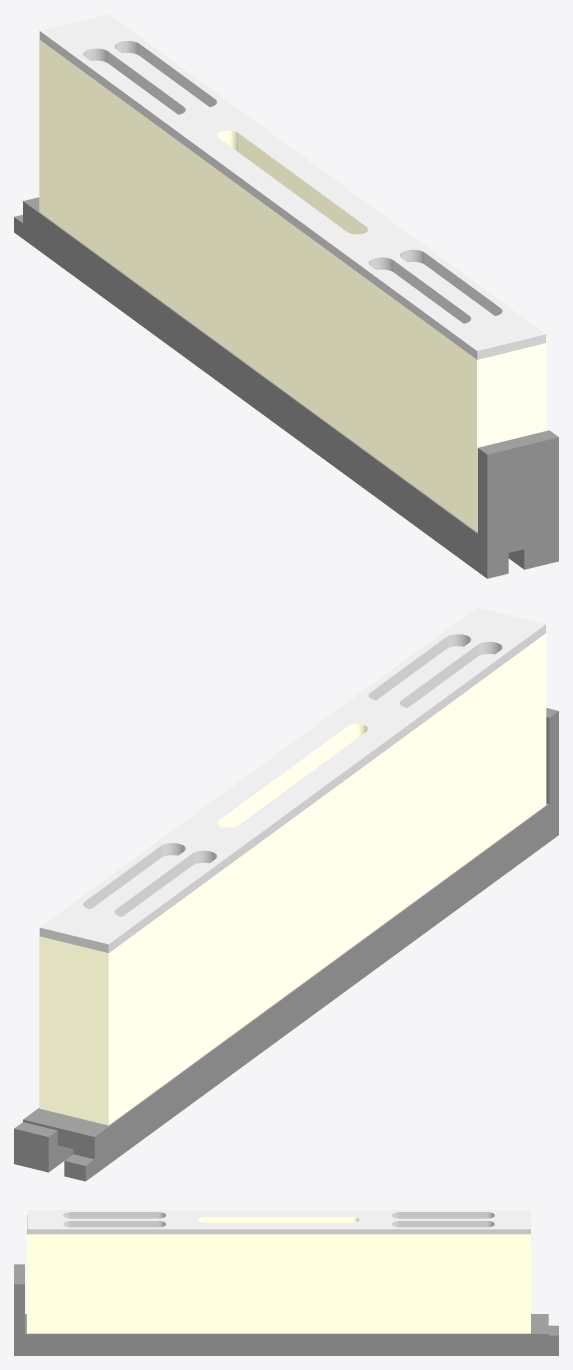
Rendered from RGT_CAR_1R.gltf.
3 renders of one model, top to bottom at view 1: azimuth 30°, elevation 25°; view 2: azimuth 150°, elevation 25°; view 3: azimuth 270°, elevation 25°, orthographic. The views are drawn at different scales.
Visible parts, largest first — view 1: Poly_Geom_Data, Frm90, Frm42; view 2: Poly_Geom_Data, Frm90, Frm42; view 3: Poly_Geom_Data, Frm42, Frm90.
Part boxes in pixels (x1,y1,x2,y2): Poly_Geom_Data: (39,39,546,532); Frm90: (39,14,545,359); Frm42: (14,43,558,578); Poly_Geom_Data: (39,633,546,1125); Frm90: (39,607,545,952); Frm42: (14,634,558,1181); Poly_Geom_Data: (27,1217,530,1333); Frm42: (14,1215,558,1355); Frm90: (27,1210,530,1234).
Bounding box in the file's own units: 43.5 × 127 × 497.
